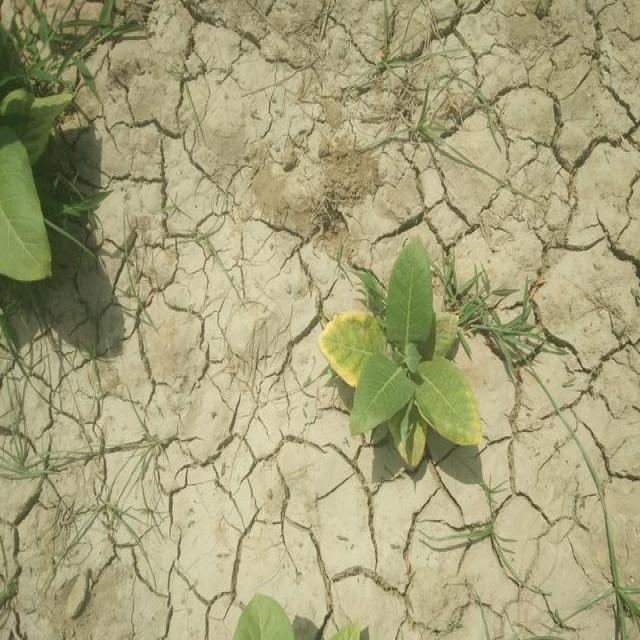crop: (324, 263, 487, 490)
